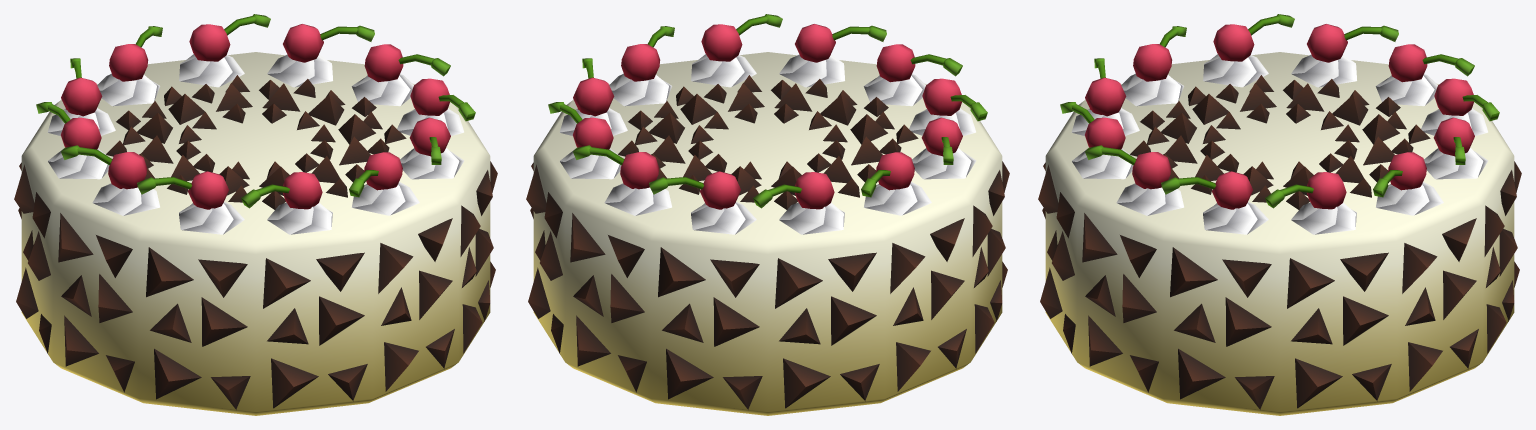
File: m_BlackForestCake01.fbx
3 renders of one model, left to right at view 1: azimuth 30°, elevation 25°; view 2: azimuth 150°, elevation 25°; view 3: azimuth 270°, elevation 25°, orthographic.
Parts seen in each view (by area): view 1: m_BlackForestCake01; view 2: m_BlackForestCake01; view 3: m_BlackForestCake01.
Boxes of the visible parts, left/top/right/bottom form: m_BlackForestCake01: left=14, top=14, right=497, bottom=415; m_BlackForestCake01: left=526, top=14, right=1009, bottom=415; m_BlackForestCake01: left=1038, top=14, right=1521, bottom=415.
Bounding box in the file's own units: 28.92 × 14.69 × 28.92.
